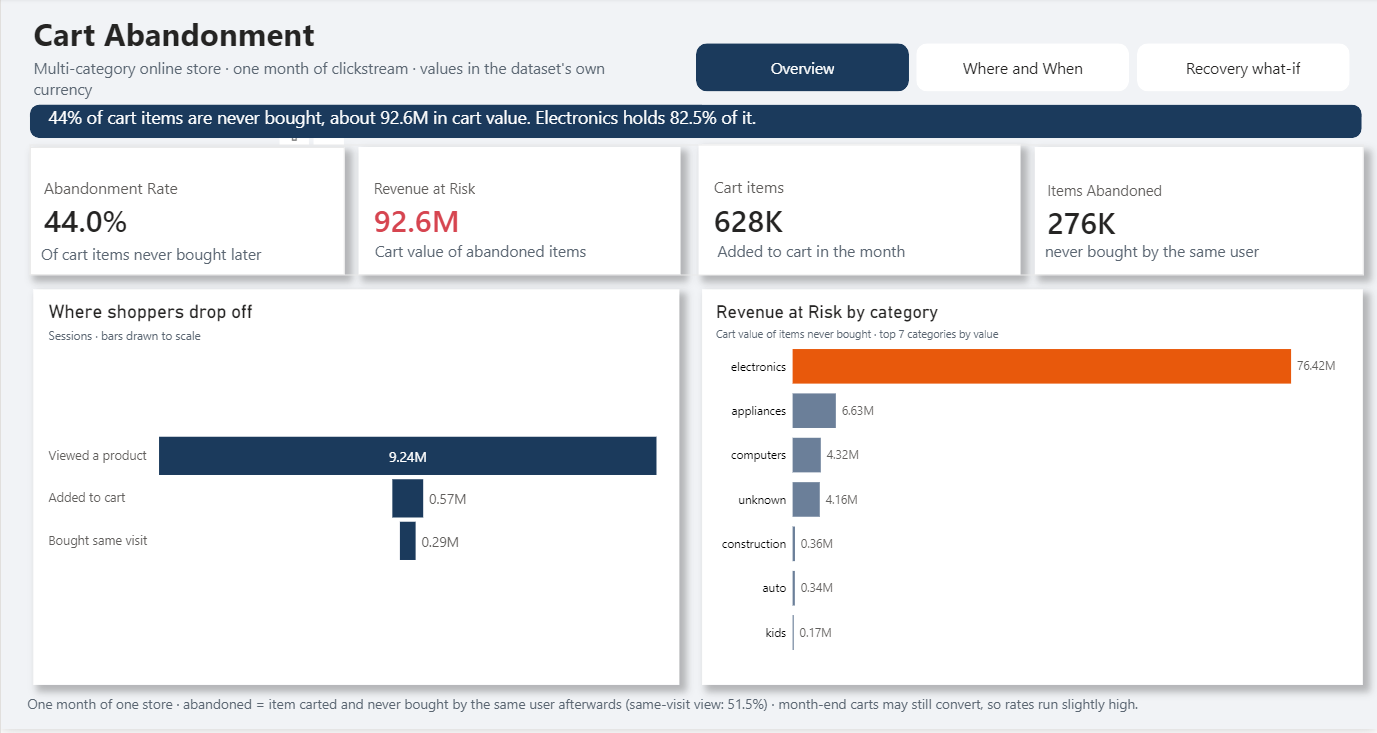

The dashboard page shown, as its layout file describes it:
{"tool":"powerbi","page":{"name":"Overview","canvas":[1880,1000],"ordinal":0},"visuals":[{"type":"textbox","box":[40,16,650,82],"z":0},{"type":"textbox","box":[40,76,868,68],"z":1000},{"type":"shape","box":[40,148,1820,46],"z":2000,"group":"g2"},{"type":"textbox","box":[30,948,1648,52],"z":2000},{"type":"textbox","box":[60,144,1050,44],"z":3000,"group":"g2"},{"type":"group","id":"g1","title":"Group 1","box":[40,202,1822,178],"z":3000},{"type":"group","id":"g2","title":"Group 2","box":[40,144,1820,50],"z":4000},{"type":"cardVisual","fields":{"Data":["Headline.Abandonment Rate %"]},"box":[40,206,430,174],"z":4000,"group":"g1"},{"type":"pageNavigator","box":[950,64,894,66],"z":5000},{"type":"cardVisual","fields":{"Data":["Category.Revenue at Risk"]},"box":[490,206,440,174],"z":5000,"group":"g1"},{"type":"cardVisual","fields":{"Data":["Sum(Hour.cart_items)"]},"box":[954,202,440,178],"z":6000,"group":"g1"},{"type":"group","id":"g3","title":"Group 3","box":[958,400,902,540],"z":6000},{"type":"cardVisual","fields":{"Data":["Headline.Items Abandoned"]},"box":[1412.3,206,449.7,174],"z":7000,"group":"g1"},{"type":"group","id":"g4","title":"Group 4","box":[44,400,882,540],"z":7000},{"type":"shape","box":[44,400,882,540],"z":8000,"group":"g4"},{"type":"textbox","box":[971.8,445.3,512.4,30],"z":8000},{"type":"shape","box":[958,400,902,540],"z":9000,"group":"g3"},{"type":"textbox","box":[60,445,571,46],"z":9000},{"type":"funnel","title":"Where shoppers drop off","fields":{"Category":["Funnel.Stage"],"Y":["Sum(Funnel.Sessions)"]},"box":[60,416,846,516],"z":10000,"group":"g4"},{"type":"clusteredBarChart","title":"Revenue at Risk by category","fields":{"Category":["Category.category"],"Y":["Category.Revenue at Risk"]},"box":[972,417,857,506],"z":11000,"group":"g3"},{"type":"textbox","box":[50.6,332,328.8,40],"z":12000,"group":"g1"},{"type":"textbox","box":[506,328,328,40],"z":13000,"group":"g1"},{"type":"textbox","box":[974.7,329.1,328.8,40],"z":14000,"group":"g1"},{"type":"textbox","box":[1420.8,328,328.8,40],"z":15000,"group":"g1"}]}

Visuals, with their boxes in screenshot pixels (x1, y1, x2, y2), scaled from the page's 1880x1000 canvas onto the 1377x733 screenshot:
textbox: box(29, 12, 505, 72)
textbox: box(29, 56, 665, 106)
shape: box(29, 108, 1362, 142)
textbox: box(22, 695, 1229, 732)
textbox: box(44, 106, 813, 138)
"Group 1" group: box(29, 148, 1364, 279)
"Group 2" group: box(29, 106, 1362, 142)
cardVisual - Headline.Abandonment Rate %: box(29, 151, 344, 279)
pageNavigator: box(696, 47, 1351, 95)
cardVisual - Category.Revenue at Risk: box(359, 151, 681, 279)
cardVisual - Sum(Hour.cart_items): box(699, 148, 1021, 279)
"Group 3" group: box(702, 293, 1362, 689)
cardVisual - Headline.Items Abandoned: box(1034, 151, 1364, 279)
"Group 4" group: box(32, 293, 678, 689)
shape: box(32, 293, 678, 689)
textbox: box(712, 326, 1087, 348)
shape: box(702, 293, 1362, 689)
textbox: box(44, 326, 462, 360)
"Where shoppers drop off" funnel: box(44, 305, 664, 683)
"Revenue at Risk by category" clusteredBarChart: box(712, 306, 1340, 677)
textbox: box(37, 243, 278, 273)
textbox: box(371, 240, 611, 270)
textbox: box(714, 241, 955, 271)
textbox: box(1041, 240, 1281, 270)
